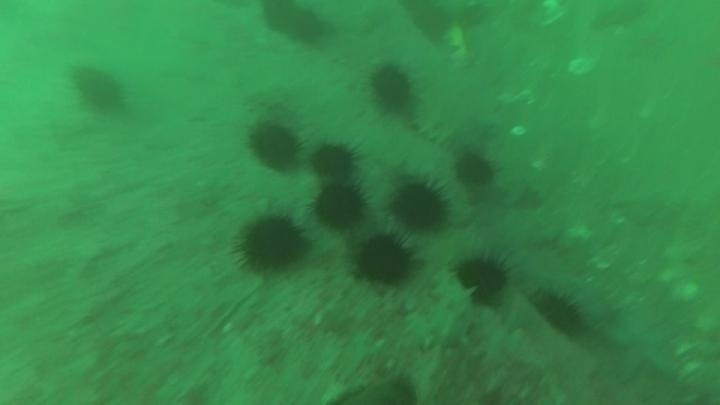echinus: (234, 210, 310, 276), (352, 231, 417, 289), (389, 178, 451, 234), (453, 251, 513, 305), (246, 119, 304, 174), (69, 62, 129, 115), (528, 286, 587, 338), (312, 181, 368, 232), (367, 62, 416, 114), (401, 2, 455, 44), (310, 139, 361, 181), (286, 7, 330, 48), (453, 150, 497, 190), (258, 1, 302, 38)
holothurian: (406, 267, 479, 353), (409, 96, 460, 150)
starfish: (604, 308, 681, 383)
